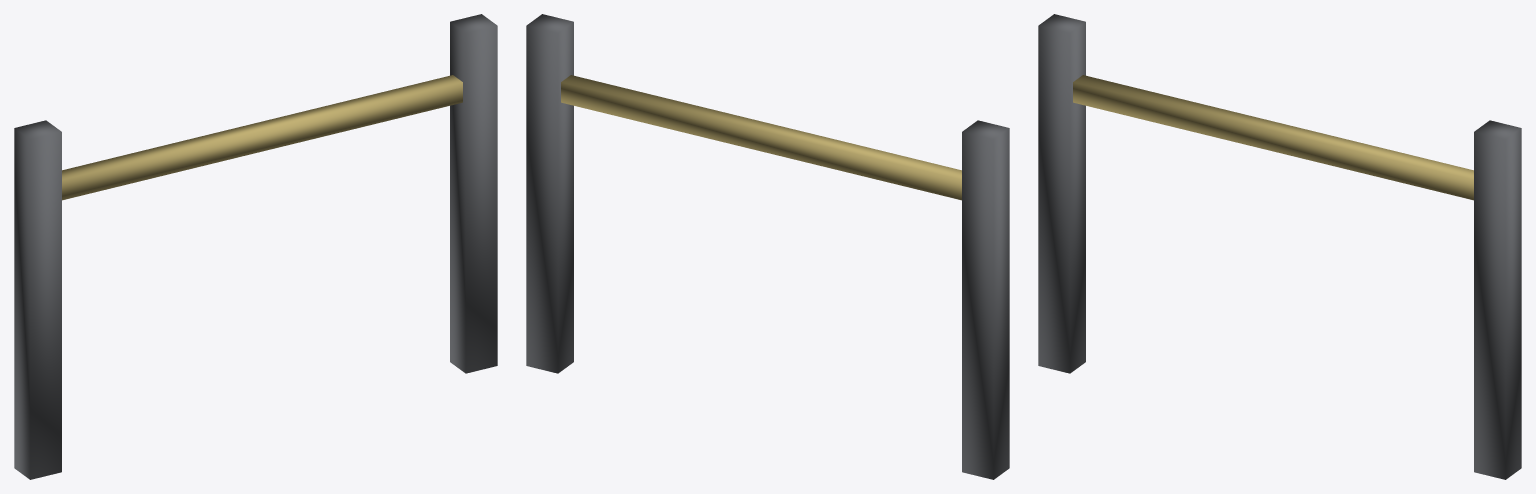
The model's file is queue_gate_04.glb.
The picture shows the model from 3 angles, left to right: view 1: azimuth 30°, elevation 25°; view 2: azimuth 150°, elevation 25°; view 3: azimuth 330°, elevation 25°; orthographic projection.
Parts seen in each view (by area): view 1: world; view 2: world; view 3: world.
Boxes of the visible parts, <box> form: world: <box>14,14,497,479</box>; world: <box>526,14,1009,479</box>; world: <box>1038,14,1521,479</box>.
Size of the model in its own units: 1.32 by 0.92 by 0.0776.
